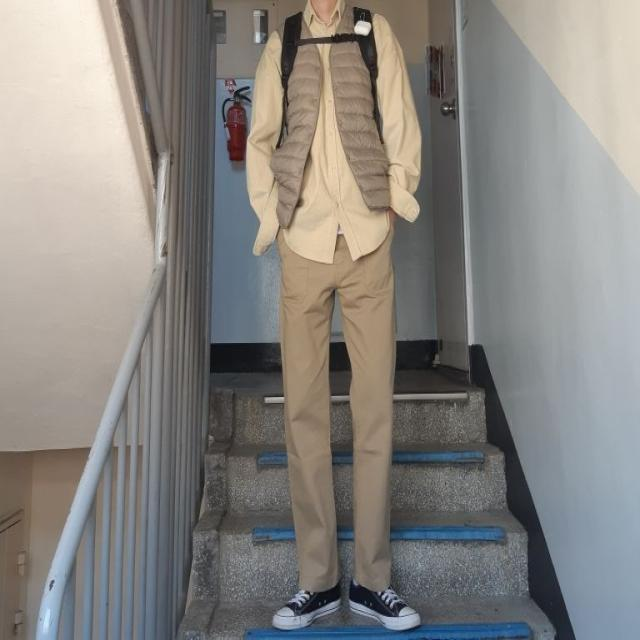cottonpants: (281, 208, 394, 594)
padding: (278, 5, 392, 222)
shirt: (244, 0, 422, 263)
